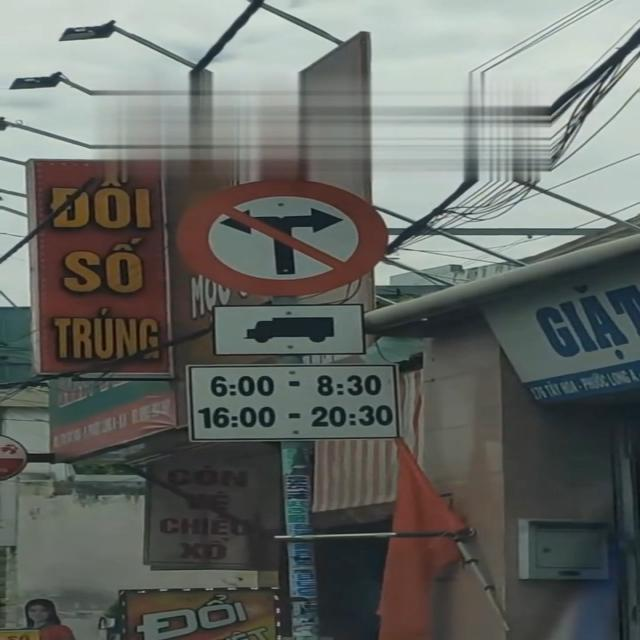137-cam-re-trai-va-re-phai: (172, 176, 388, 294)
